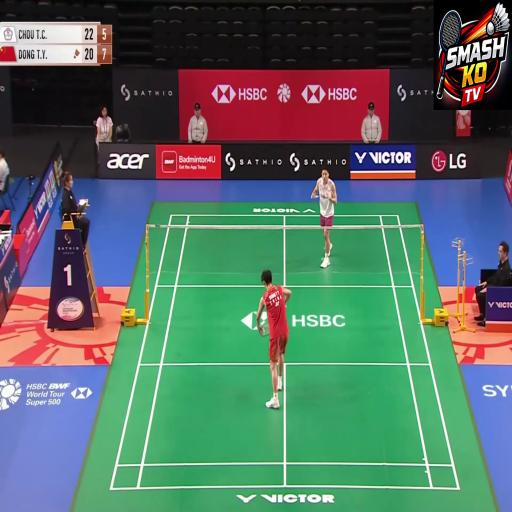player: (228, 256, 304, 428), (303, 154, 340, 272)
